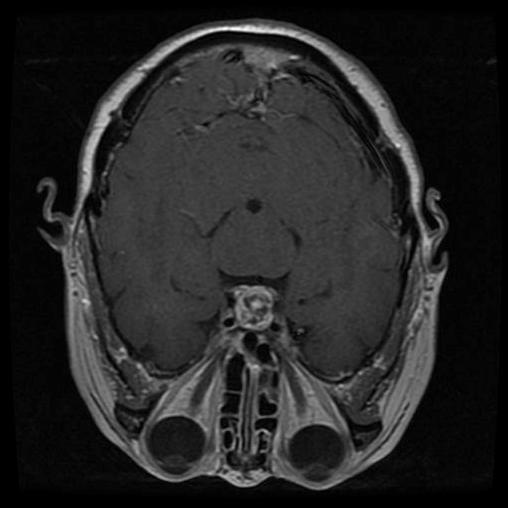Tumour-Pituitary: (221, 277, 288, 335)
